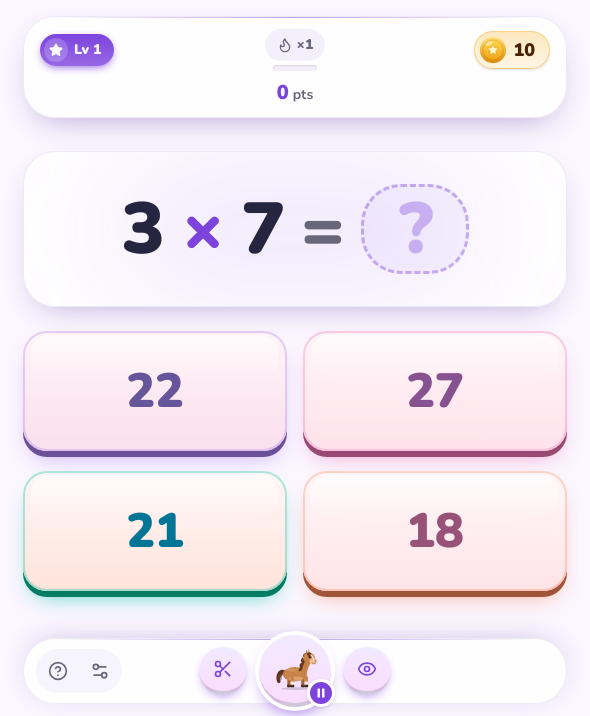
Test: GameScreen › closes the picture hint when the next question arrives
Click the button named "Show hint" at [367, 671], box top-left (343, 647), bottom-right (391, 695)
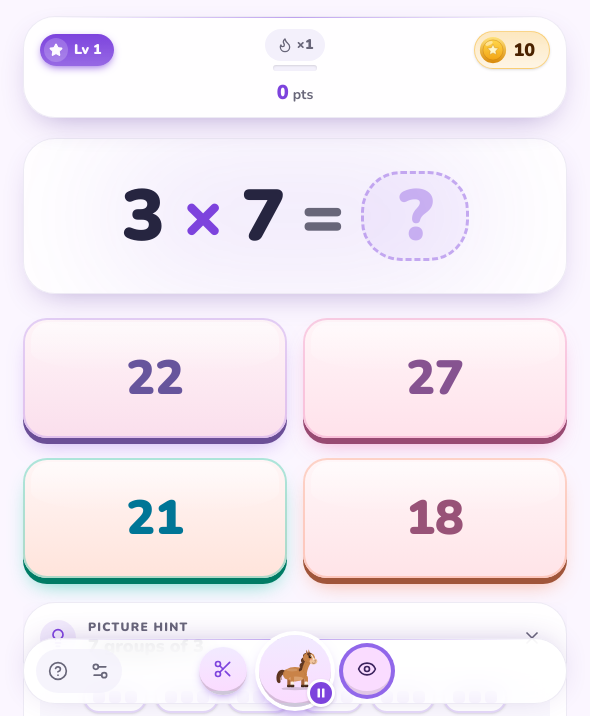
expect the text "Picture hint" is shown: met, box top-left (88, 618), bottom-right (188, 634)
Click the button "21" at [155, 518], box top-left (23, 458), bottom-right (287, 578)
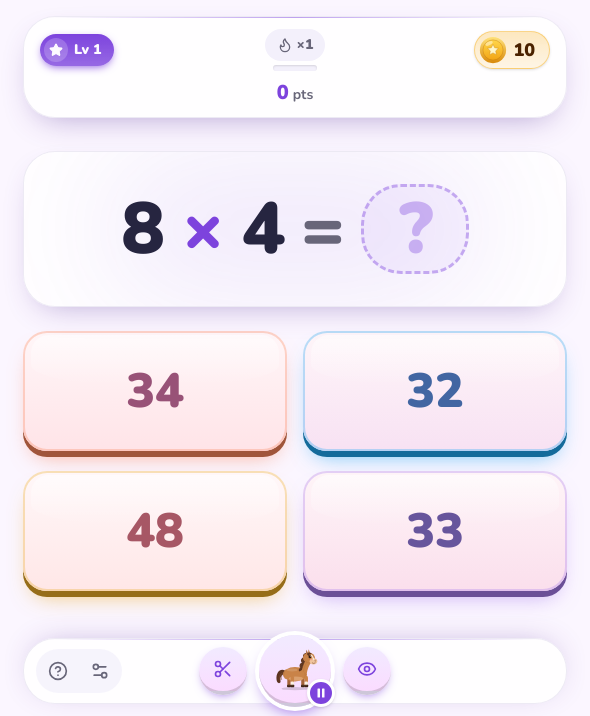
expect the button named "Show hint" is shown: met, box top-left (343, 647), bottom-right (391, 695)
expect the text "Picture hint" is gone: met
